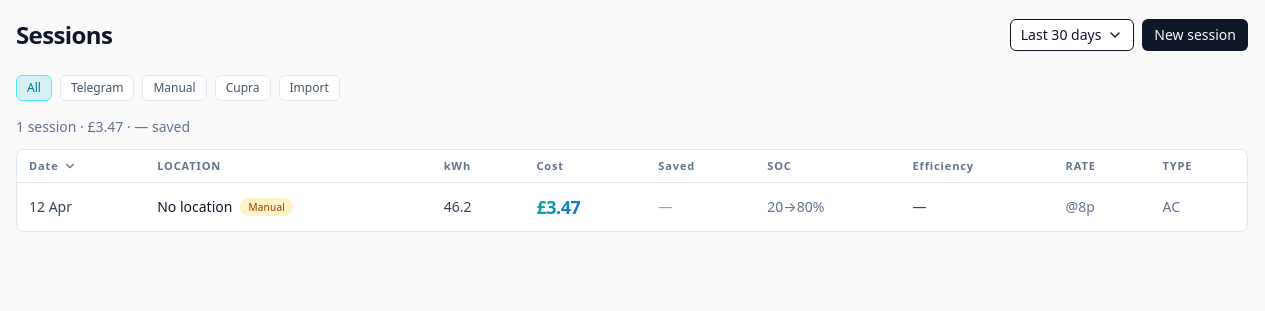
it: Sessions page › date range filter › shows a hint and suppresses the request when from > to
Expected: the row with test id "session-row" is shown, [17,182,1247,231]
Click the button "Last 30 days" at [1072, 35], box [1010,19,1134,51]
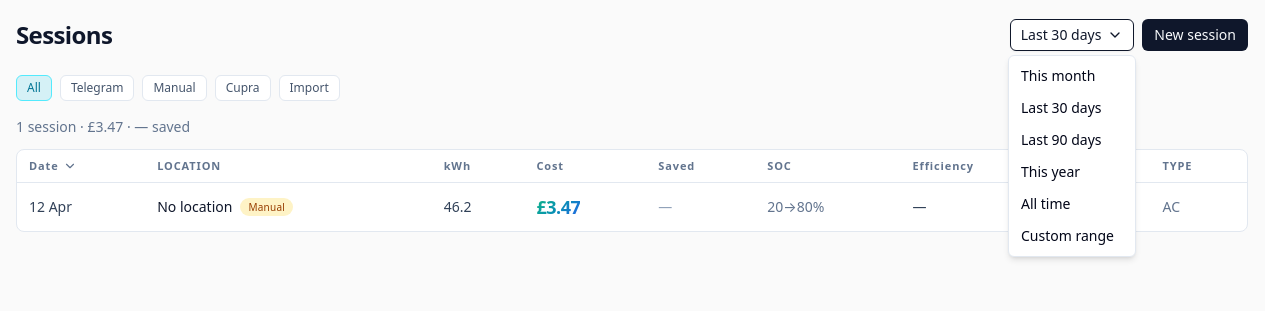
Click the menu item "Custom range" at [1068, 236], box [1021,226,1114,245]
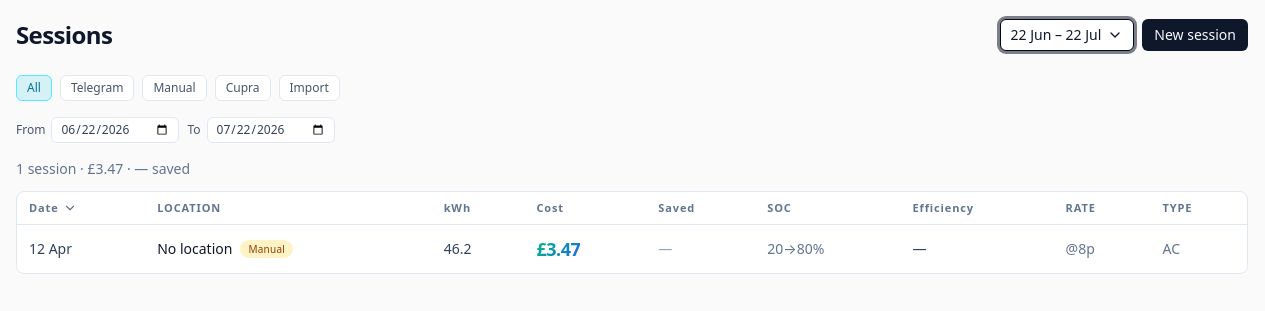
# Establish a valid range first and let it settle into a request.
Type "2026-05-20" into the date field with test id "custom-from" at [115, 130], box [51,117,179,143]
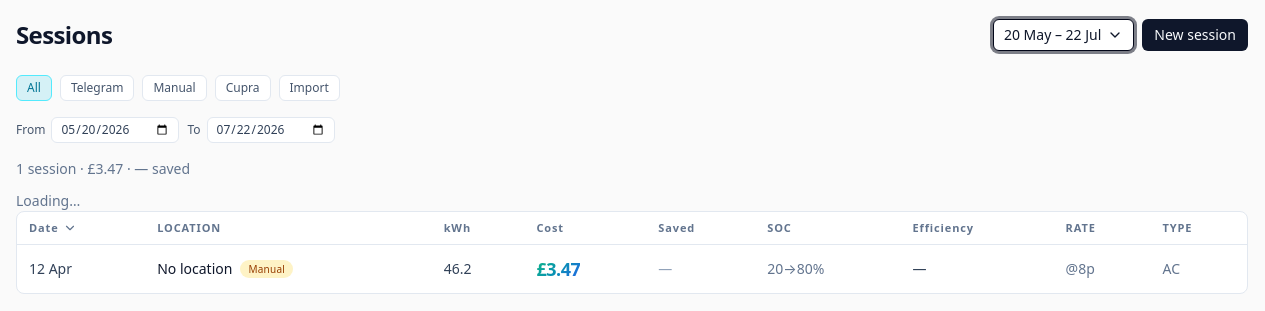
Type "2026-05-25" into the date field with test id "custom-to" at [270, 130], box [206,117,334,143]
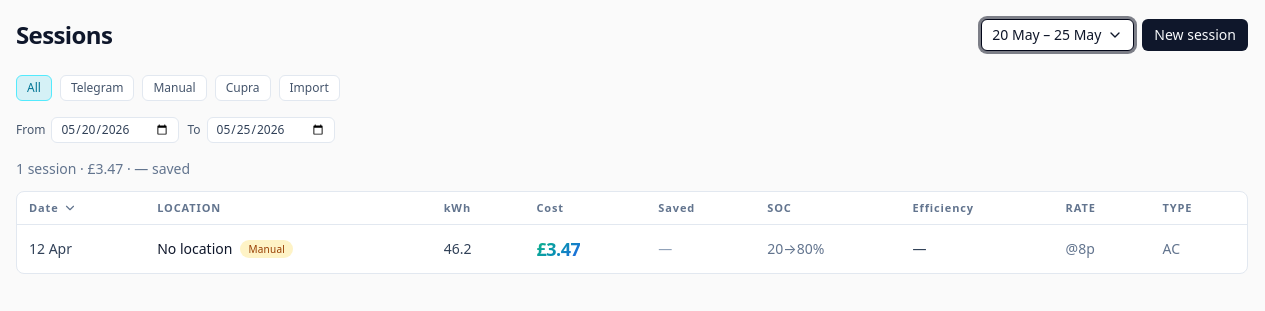
# Now make `from` later than `to` → invalid range.
Type "2026-05-01" into the date field with test id "custom-to" at [270, 130], box [206,117,334,143]
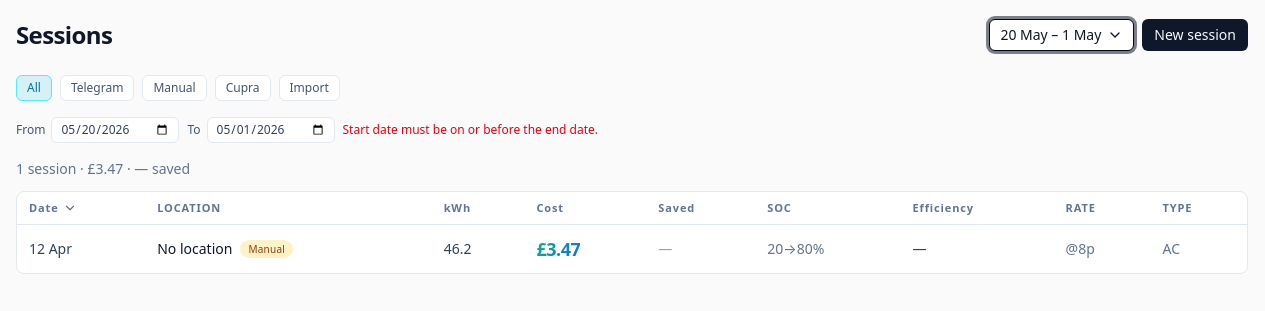
Now the text "Start date must be on or before the end date." is shown, box [342,122,598,138]
